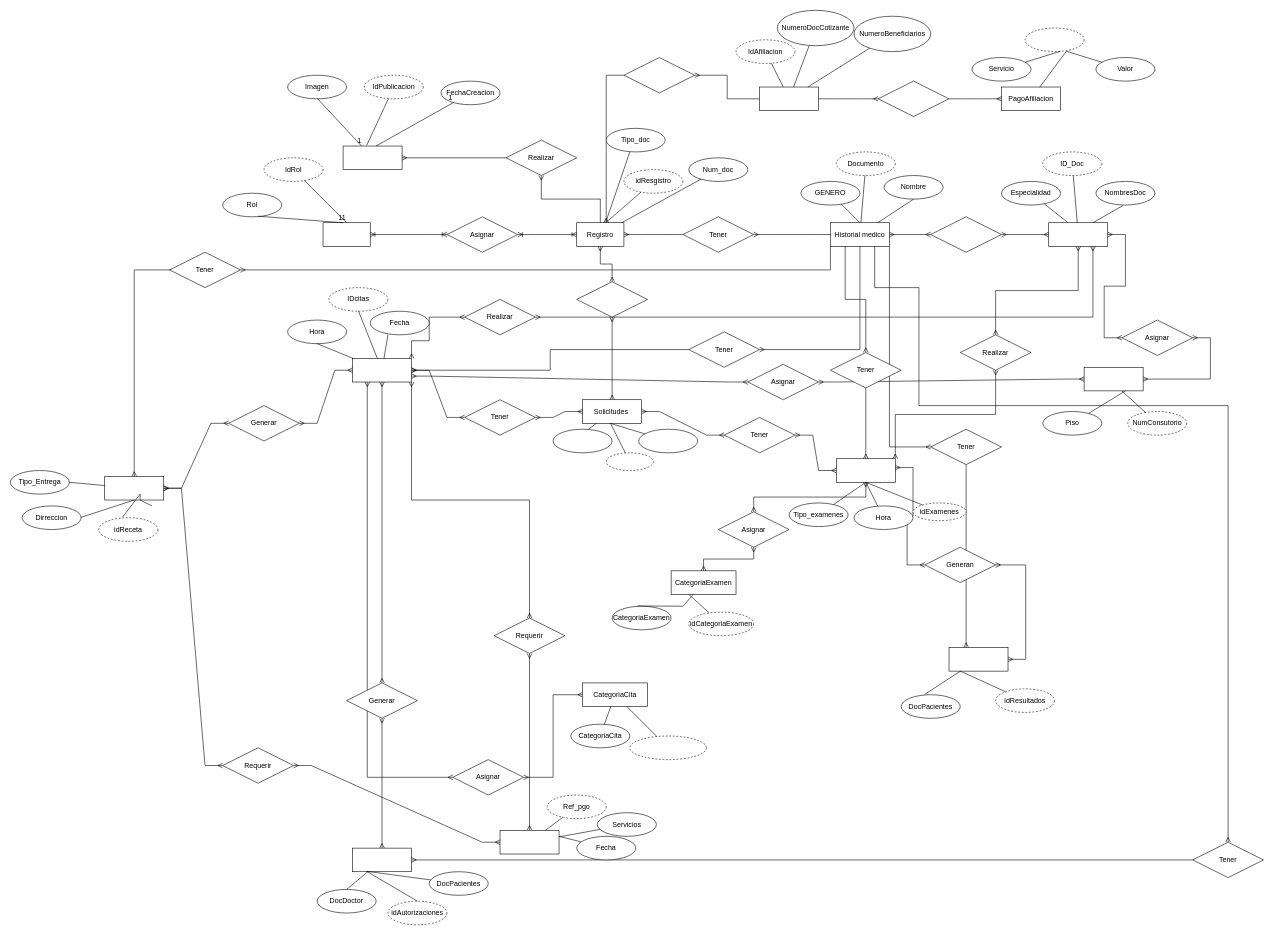
This 1274x935 diagram has some shape labels left out. The shapes that lost their labels are listed below. From the top down, each one's box as (x1, y1, x2, y2) in pixels, then its label:
(1025, 27, 1084, 52): idPagoAf
(623, 57, 695, 93): Comprar
(759, 86, 819, 111): Paquetes Afiliacion
(878, 81, 949, 117): Gestionar
(342, 145, 402, 170): Publicaciones
(322, 222, 370, 246): Roles
(930, 216, 1002, 252): Hacer
(1048, 222, 1108, 246): Doctores
(576, 281, 648, 317): Crear
(352, 358, 412, 382): Citas
(1084, 367, 1143, 391): Consultorio
(553, 429, 612, 453): Fecha_solicitud
(638, 429, 698, 453): Hora-Cita
(606, 452, 653, 471): Idsolicitudes
(836, 458, 895, 482): Examenes
(104, 476, 164, 500): Receta medicamento
(948, 647, 1008, 671): Resultados
(629, 735, 707, 760): idCategoriaCita
(352, 848, 412, 872): Autorizacion medica
(499, 830, 559, 854): CoPago
